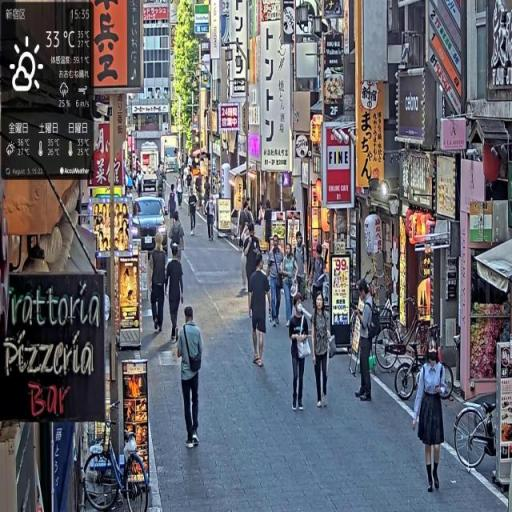person: (412, 345, 451, 496), (175, 303, 205, 453), (310, 291, 335, 412), (248, 255, 273, 373), (288, 296, 312, 414), (355, 278, 377, 404), (149, 238, 169, 335), (167, 248, 187, 345), (266, 236, 286, 328), (282, 239, 299, 329), (169, 212, 187, 261), (207, 194, 218, 242), (189, 188, 199, 237)
